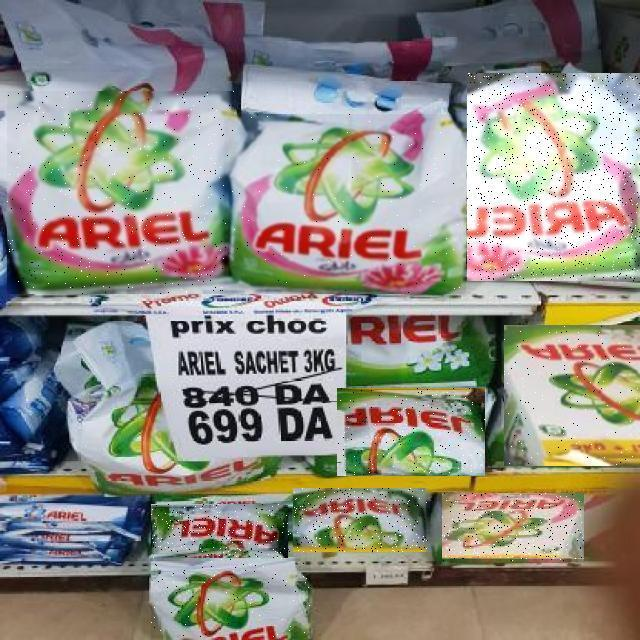Detergent: (8, 91, 236, 294), (226, 115, 466, 295), (467, 73, 640, 281), (504, 325, 640, 466), (337, 389, 485, 477), (151, 559, 311, 639), (442, 494, 584, 562), (294, 488, 430, 552), (152, 504, 292, 558)
